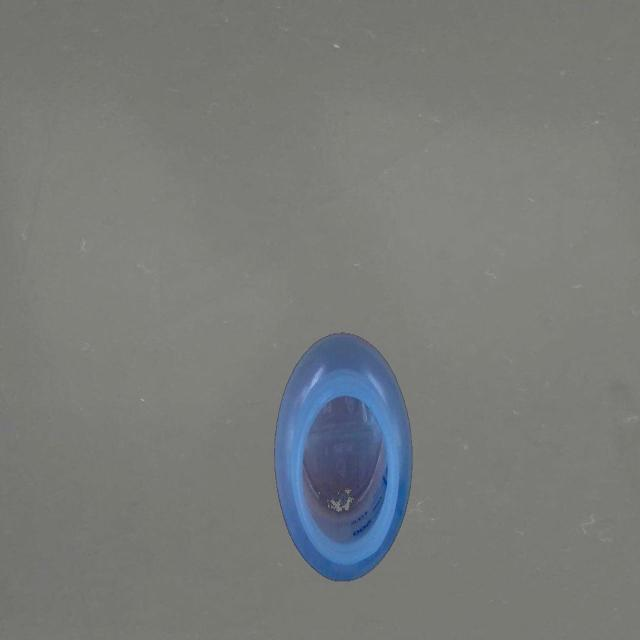bottle: (272, 330, 413, 586)
